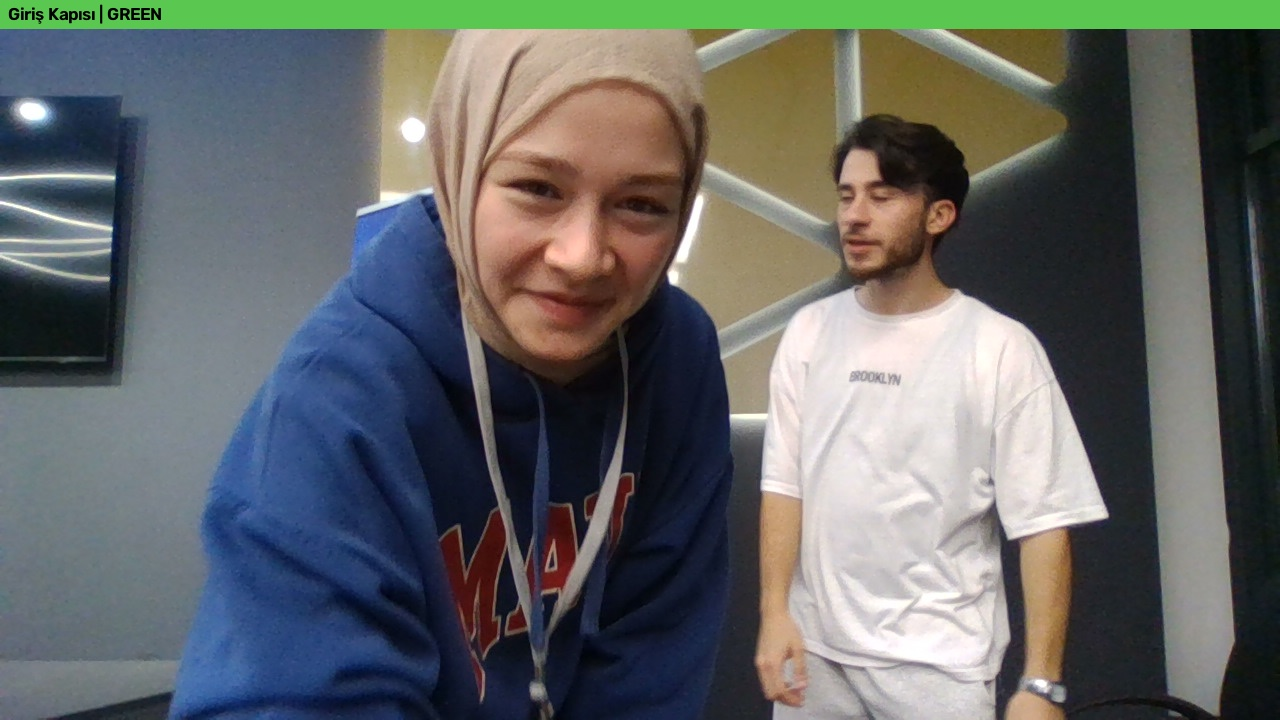weapon: (624, 294, 805, 405)
